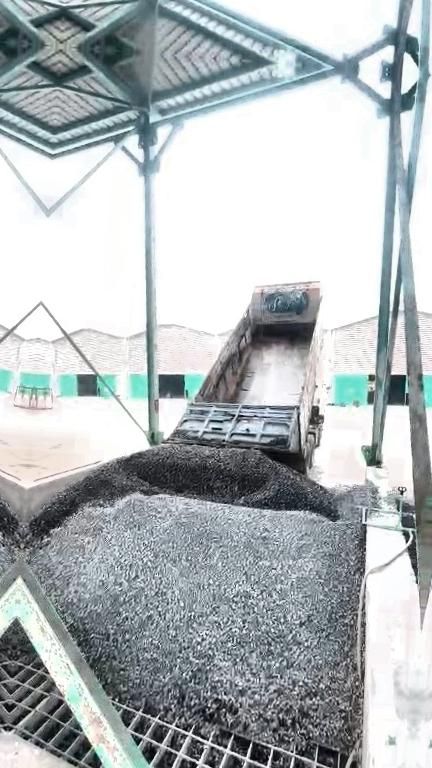gravel: (25, 478, 382, 751), (29, 443, 338, 544), (14, 619, 33, 659)
sand: (28, 439, 75, 479)
